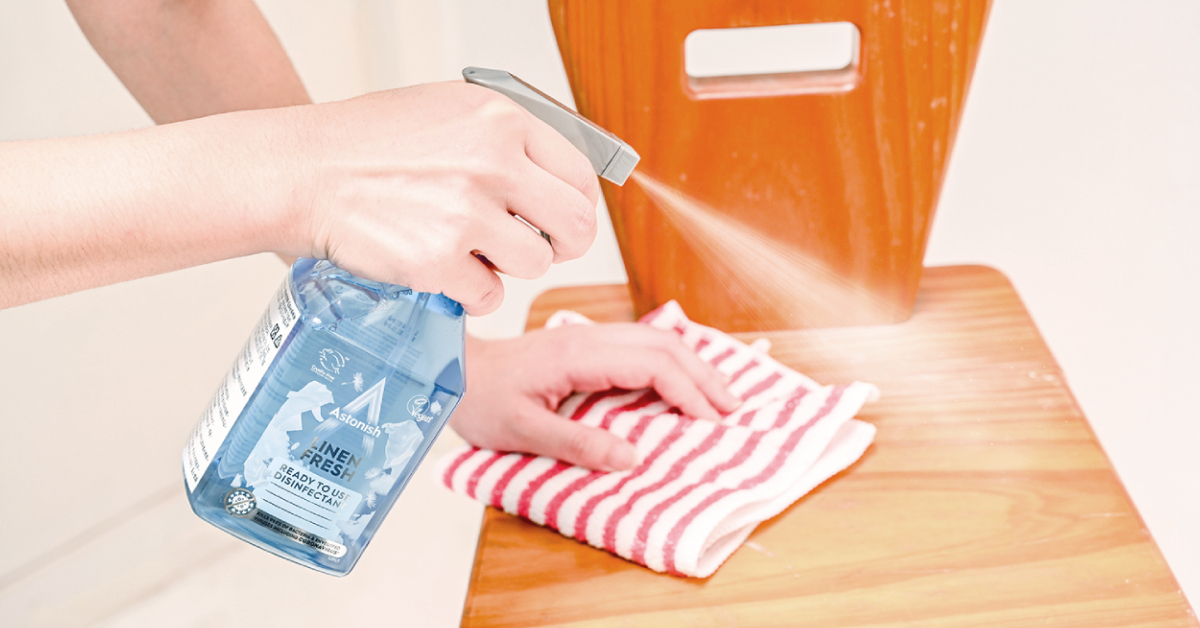cleaner: (176, 61, 647, 586)
